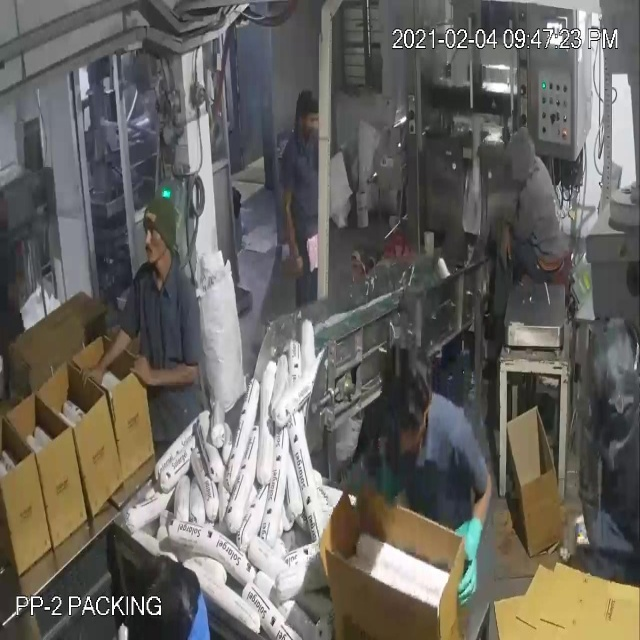Guantes: (448, 505, 488, 613)
Sin_guantes: (127, 338, 203, 401), (71, 322, 130, 401), (274, 180, 313, 290), (500, 206, 517, 276)
